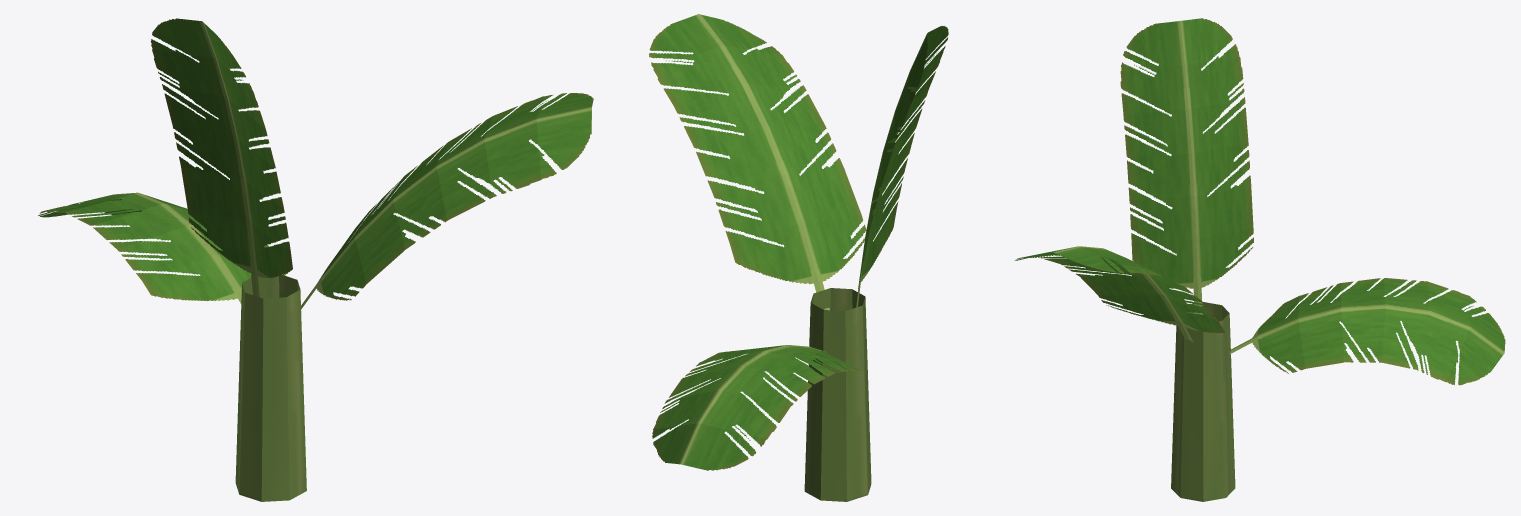
File: banana_1.obj
The picture shows the model from 3 angles, left to right: view 1: azimuth 30°, elevation 25°; view 2: azimuth 150°, elevation 25°; view 3: azimuth 270°, elevation 25°; orthographic projection. The views are drawn at different scales.
Parts seen in each view (by area): view 1: banana; view 2: banana; view 3: banana.
Part boxes in pixels (x1,y1,x2,y2): banana: (38, 18, 593, 501); banana: (649, 14, 948, 501); banana: (1015, 18, 1505, 501).
Bounding box in the file's own units: 0.6143 × 0.7403 × 0.7974.
